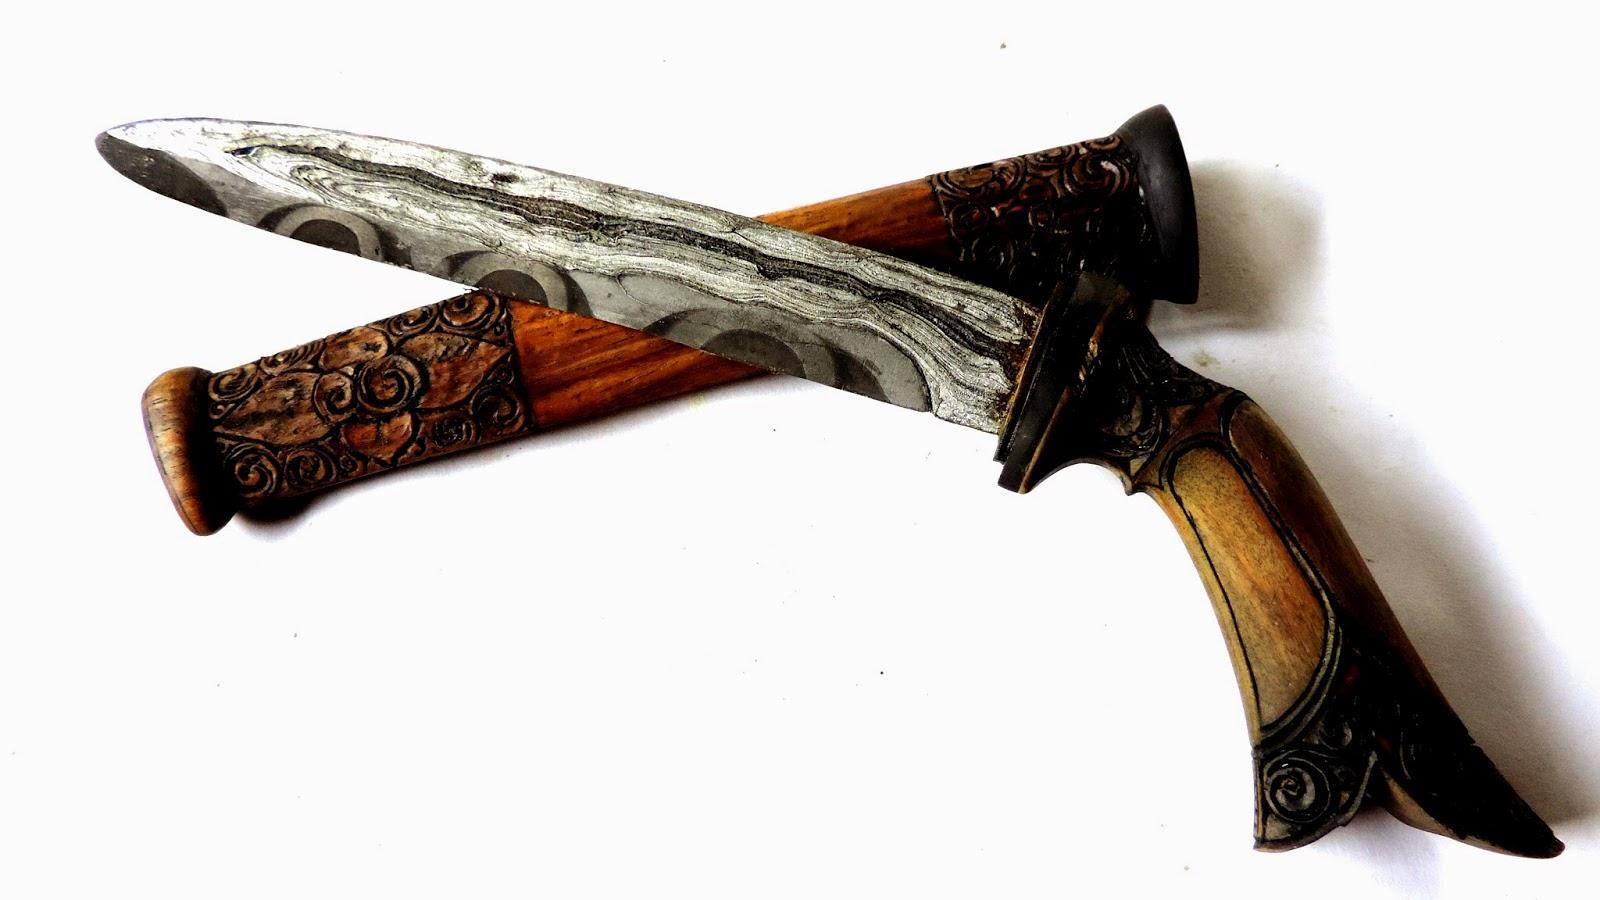facao: (96, 118, 1563, 857)
